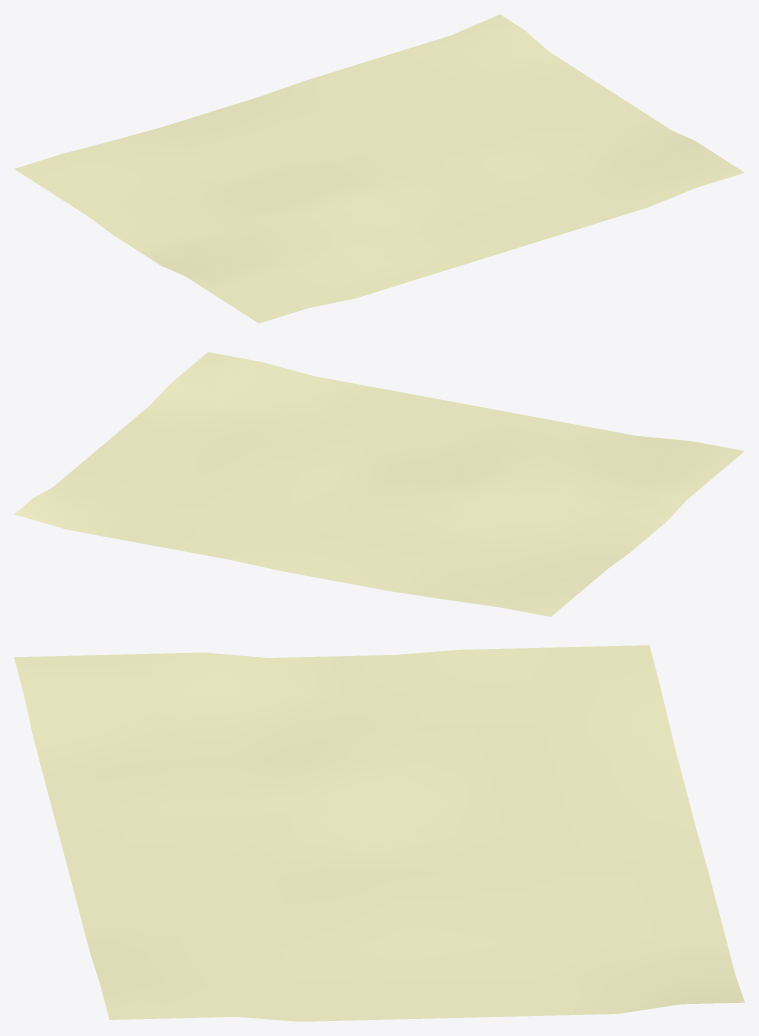
File: paper.glb
3 renders of one model, top to bottom at view 1: azimuth 30°, elevation 25°; view 2: azimuth 150°, elevation 25°; view 3: azimuth 270°, elevation 25°, orthographic. The views are drawn at different scales.
Visible parts, largest first — view 1: Object_2; view 2: Object_2; view 3: Object_2.
Part boxes in pixels (x1,y1,x2,y2): Object_2: (14, 14, 744, 323); Object_2: (14, 352, 744, 616); Object_2: (14, 645, 744, 1021).
Size of the model in its own units: 7.86 by 0.1044 by 6.43.
